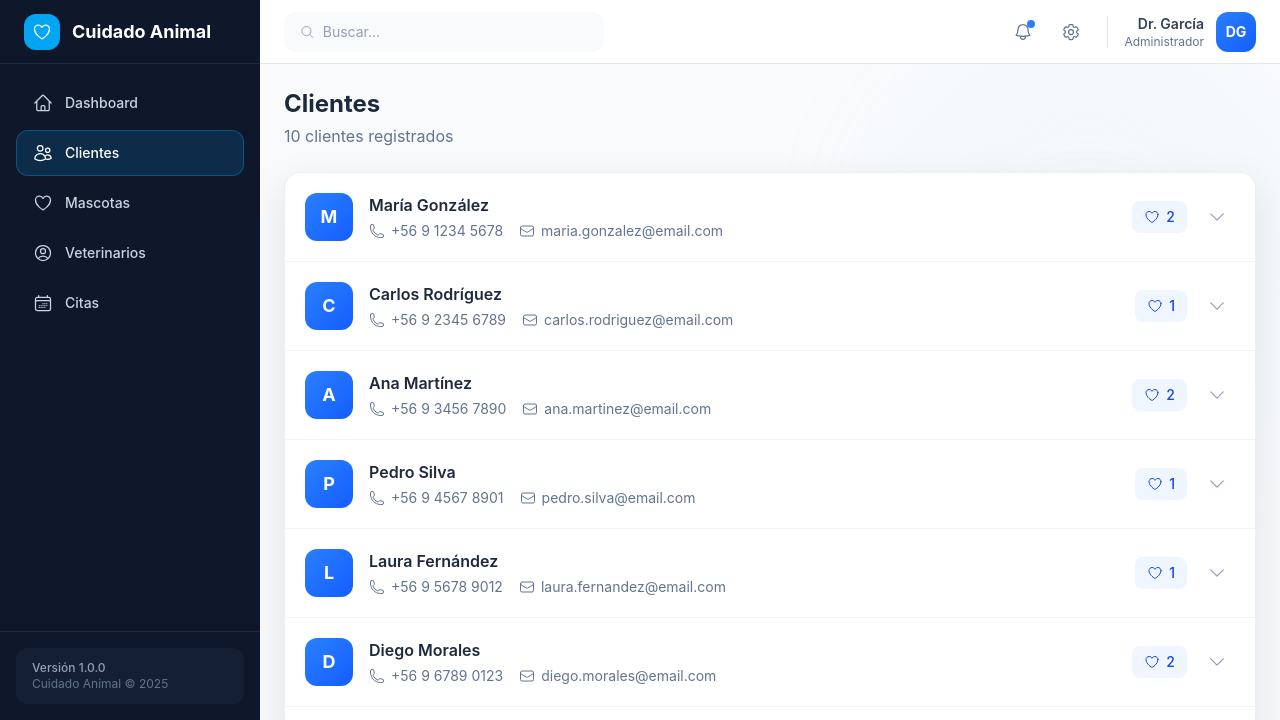
Clientes › Expansión de detalles › muestra las mascotas del cliente expandido
Expected: the heading "Clientes" is shown, [284,89,380,118]
# Click en Carlos Rodríguez
Click the heading "Carlos Rodríguez". click: {"x": 436, "y": 294}
box: [369,284,502,304]
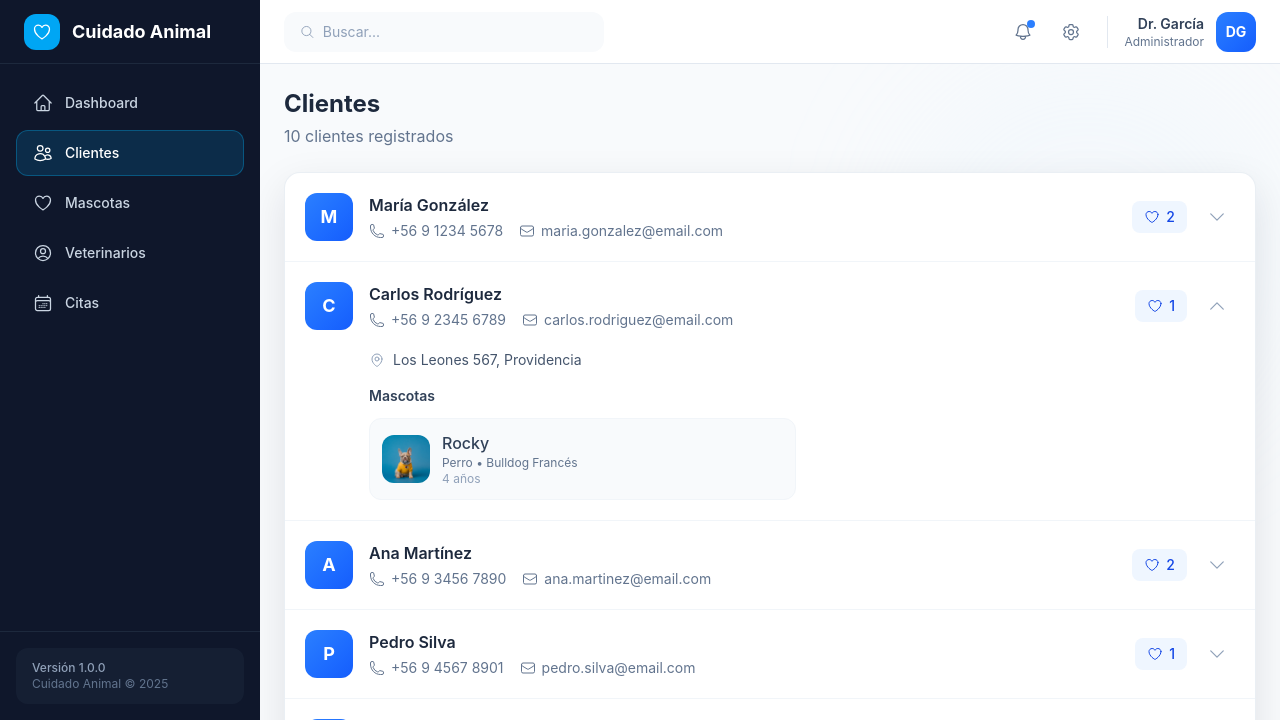
Expected: the link "Rocky Perro • Bulldog Francés 4 años" is shown, [369,418,796,500]
